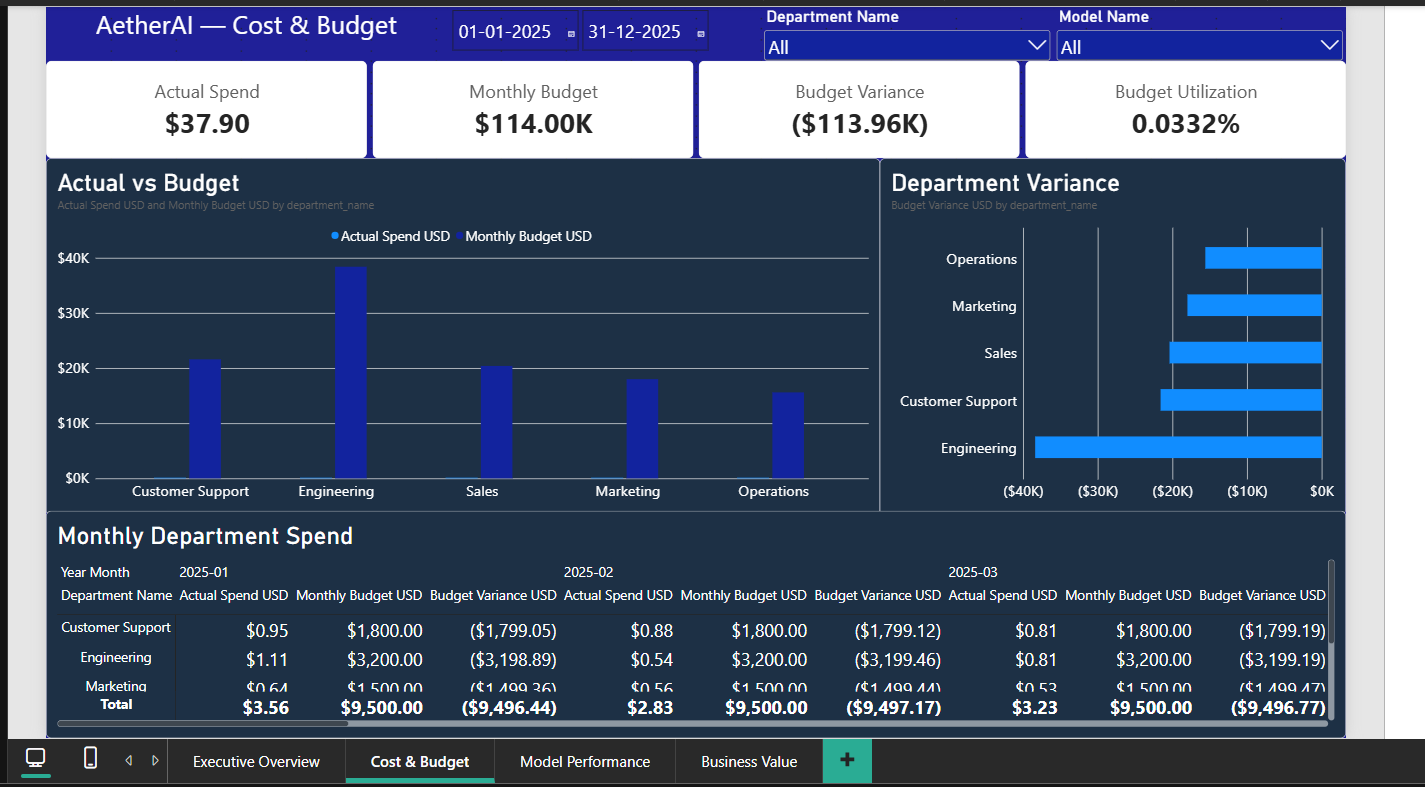

Layout of this report page (visuals, bound fields, positions):
{"tool":"powerbi","page":{"name":"Cost & Budget","canvas":[1920,1080],"ordinal":1},"visuals":[{"type":"cardVisual","fields":{"Data":["Measure.Actual Spend USD","Measure.Monthly Budget USD","Measure.Budget Variance USD","Measure.Budget Utilization %"]},"box":[0,80,1920,144],"z":0},{"type":"clusteredColumnChart","title":"Actual vs Budget","fields":{"Category":["departments.department_name"],"Y":["Measure.Actual Spend USD","Measure.Monthly Budget USD"]},"box":[0,224,1232,528],"z":1000},{"type":"barChart","title":"Department Variance","fields":{"Category":["departments.department_name"],"Y":["Measure.Budget Variance USD"]},"box":[1232,224,688,528],"z":2000},{"type":"pivotTable","title":"Monthly Department Spend","fields":{"Columns":["Date.Year Month"],"Rows":["departments.department_name"],"Values":["Measure.Actual Spend USD","Measure.Monthly Budget USD","Measure.Budget Variance USD"]},"box":[0,744,1920,336],"z":3000},{"type":"slicer","fields":{"Values":["Date.Date"]},"box":[592,0,464,96],"z":4000},{"type":"slicer","fields":{"Values":["departments.department_name"]},"box":[1056,0,432,96],"z":5000},{"type":"slicer","fields":{"Values":["ai_models.model_name"]},"box":[1488,0,432,96],"z":6000},{"type":"textbox","box":[0,0,592,96],"z":7000}]}

Visuals, with their boxes on the page's 1920x1080 design canvas (x1, y1, x2, y2). These are canvas units, not pixel positions in the 1425x787 screenshot, which may show the page scaled, cropped or inside an application window:
cardVisual - Measure.Actual Spend USD x Measure.Monthly Budget USD: region(0, 80, 1920, 224)
"Actual vs Budget" clusteredColumnChart: region(0, 224, 1232, 752)
"Department Variance" barChart: region(1232, 224, 1920, 752)
"Monthly Department Spend" pivotTable: region(0, 744, 1920, 1080)
slicer - Date.Date: region(592, 0, 1056, 96)
slicer - departments.department_name: region(1056, 0, 1488, 96)
slicer - ai_models.model_name: region(1488, 0, 1920, 96)
textbox: region(0, 0, 592, 96)
